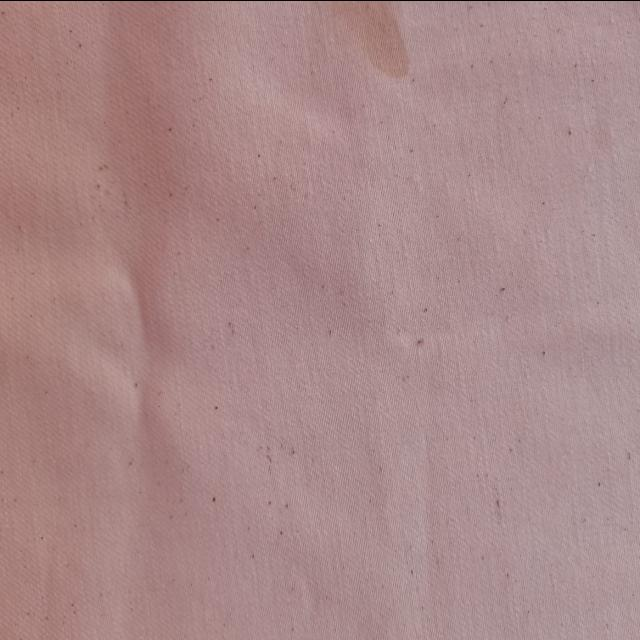taaaches: (314, 0, 426, 92)
